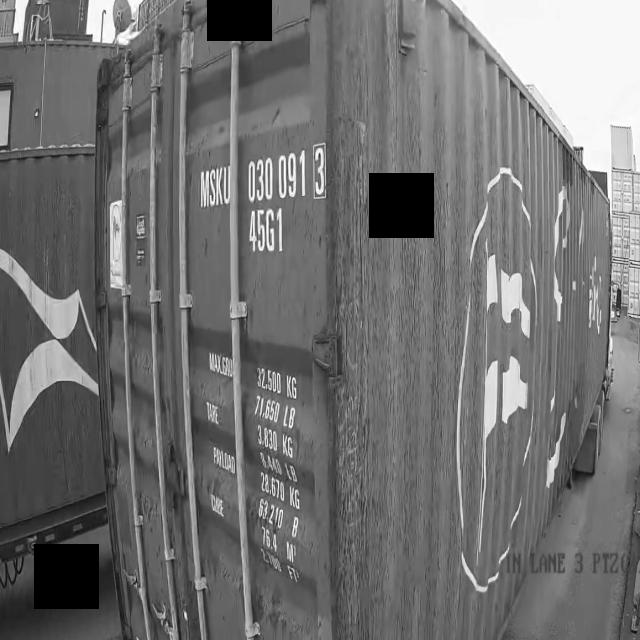container_number: (196, 143, 326, 257)
other_container_info: (201, 327, 322, 587)
truck_with_container: (64, 0, 611, 640)
